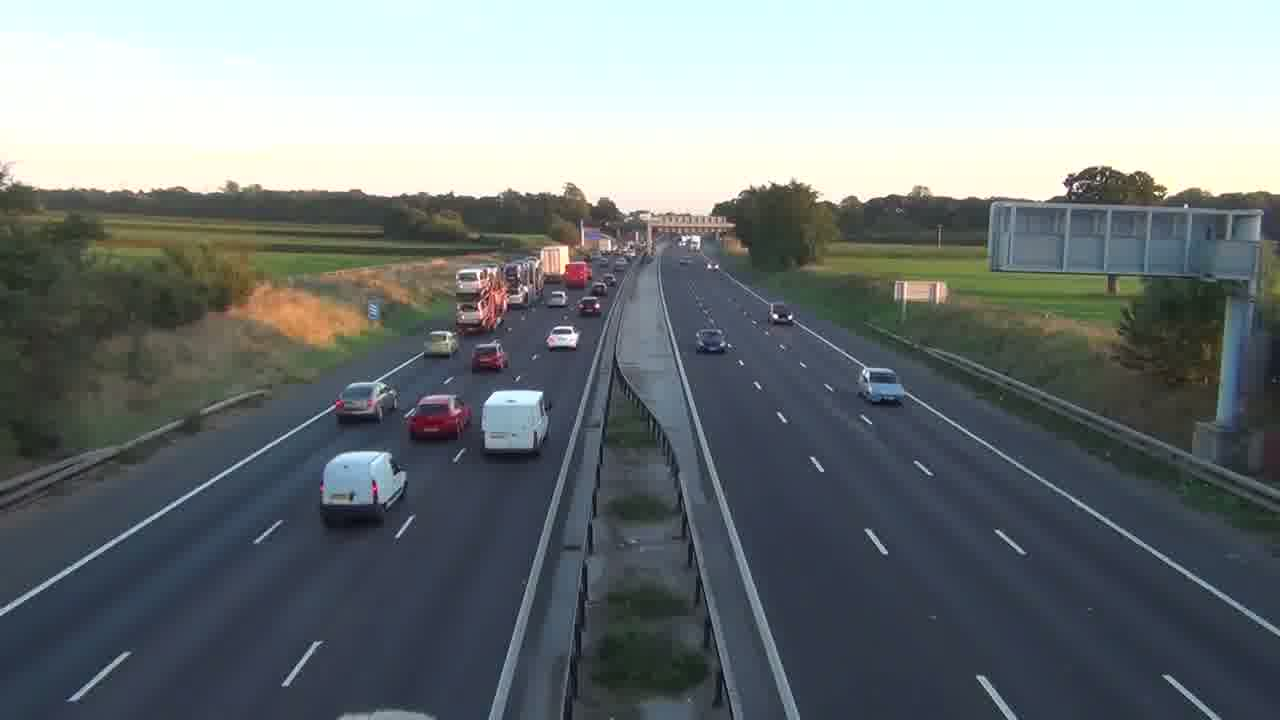car: (318, 450, 408, 526), (405, 393, 471, 441), (335, 381, 388, 423), (858, 367, 905, 406), (471, 341, 508, 372), (545, 324, 580, 352)
truck: (481, 389, 550, 457), (563, 261, 592, 289)
